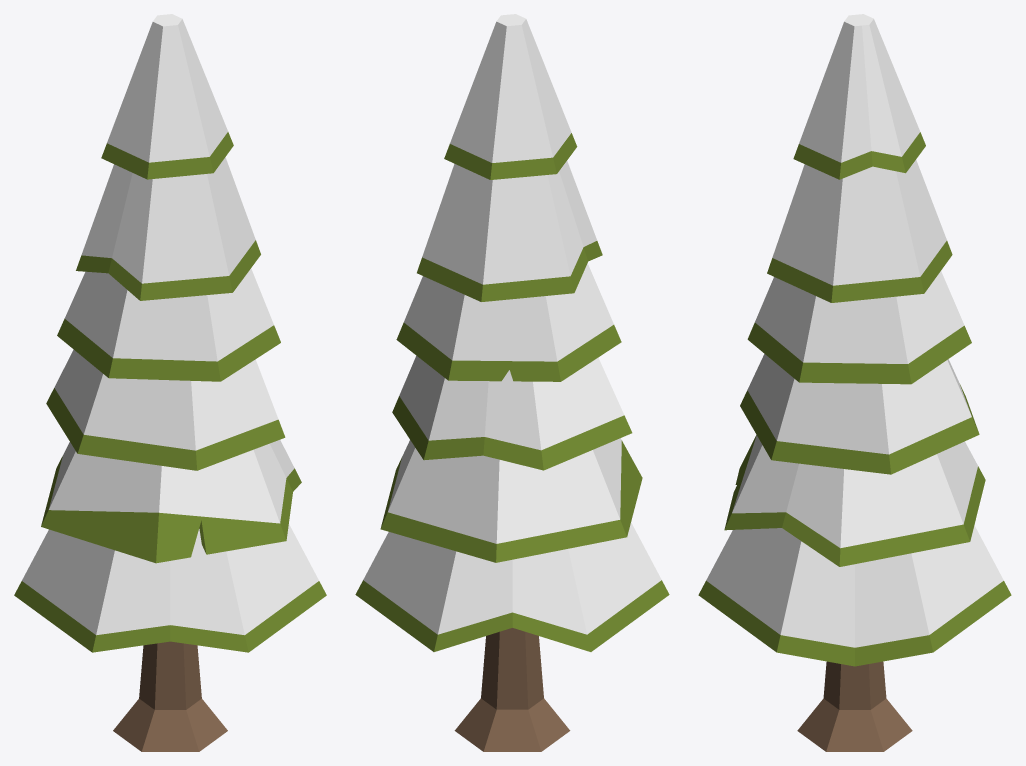
File: tree 9.fbx
3 views of the same model, side by side, from view 1: azimuth 30°, elevation 25°; view 2: azimuth 150°, elevation 25°; view 3: azimuth 270°, elevation 25° (orthographic).
Parts seen in each view (by area): view 1: Tree 9; view 2: Tree 9; view 3: Tree 9.
Boxes of the visible parts, <box> form: Tree 9: <box>14,14,326,751</box>; Tree 9: <box>355,14,669,751</box>; Tree 9: <box>698,14,1011,751</box>.
Size of the model in its own units: 215 by 594 by 237.
Materials: 1 (1 with a texture image).
